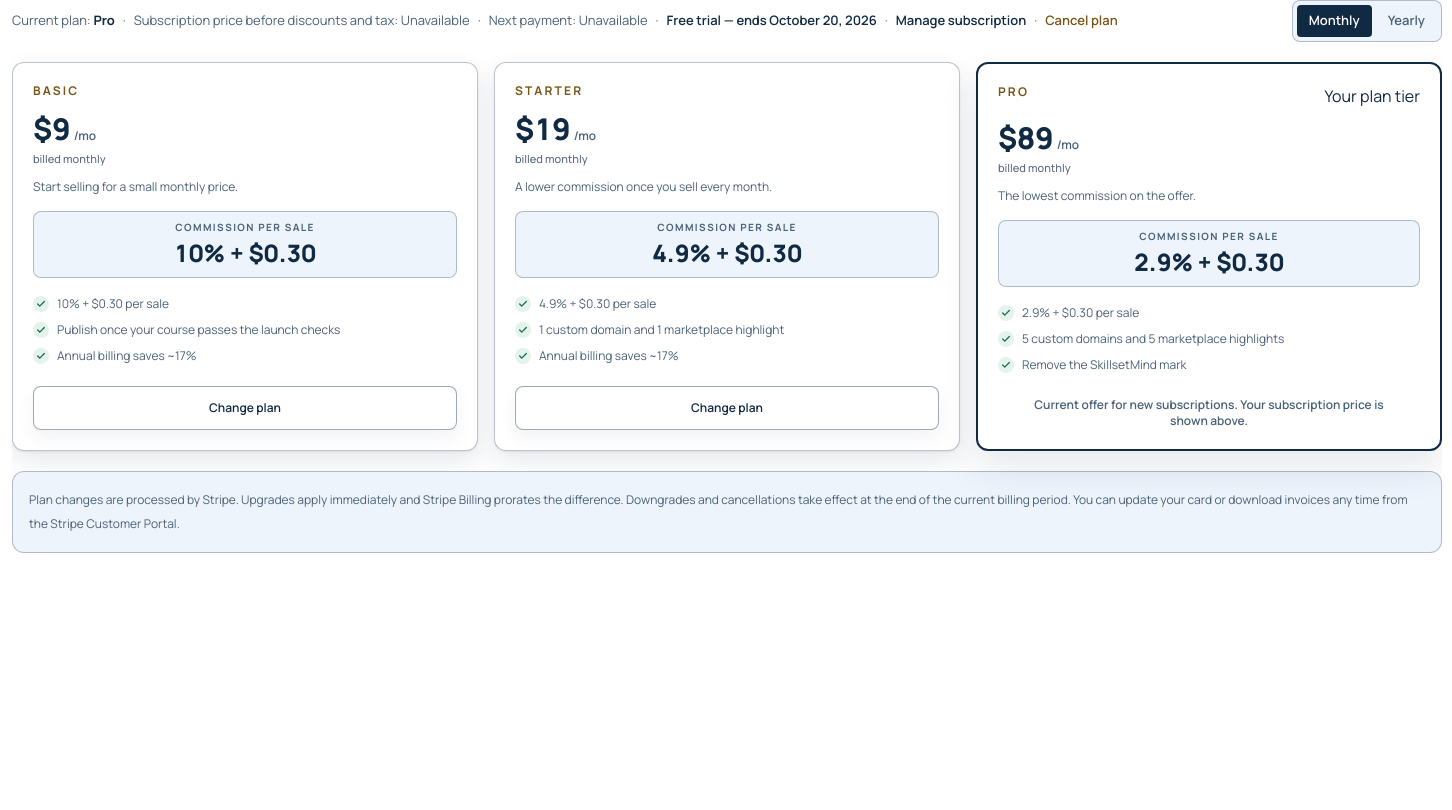
PlansPanel com os 2 planos e o teste gratis › durante o teste mostra quando ele termina e um Cancel plan que funciona
Expected: the text "Free trial — ends October 20, 2026" is shown, top-left (666, 11), bottom-right (877, 30)
Click the button "Cancel plan" at [1081, 21], box top-left (1045, 11), bottom-right (1118, 30)
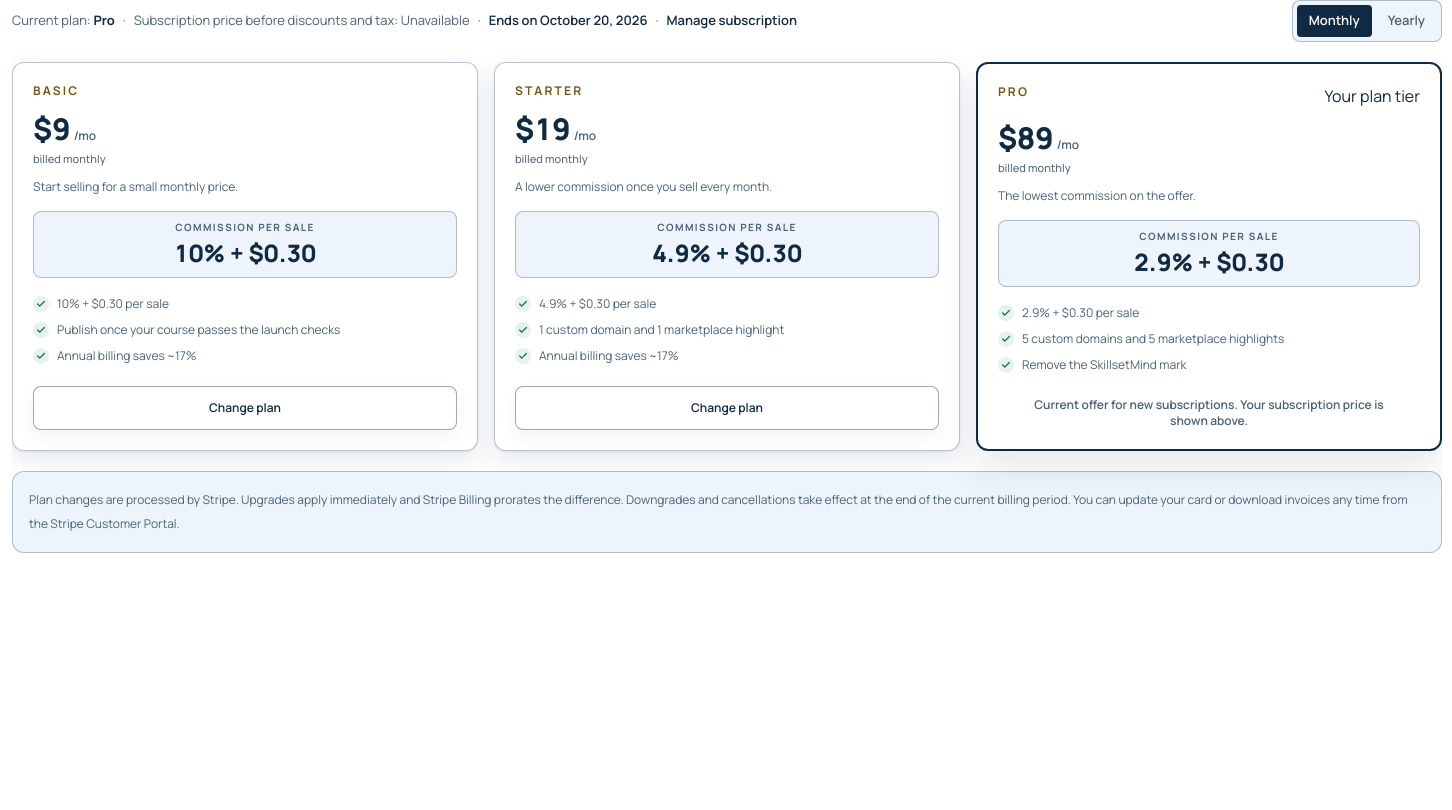
Result: the text "Ends on October 20, 2026" is shown at top-left (489, 11), bottom-right (648, 30)
Result: the button "Cancel plan" is gone
